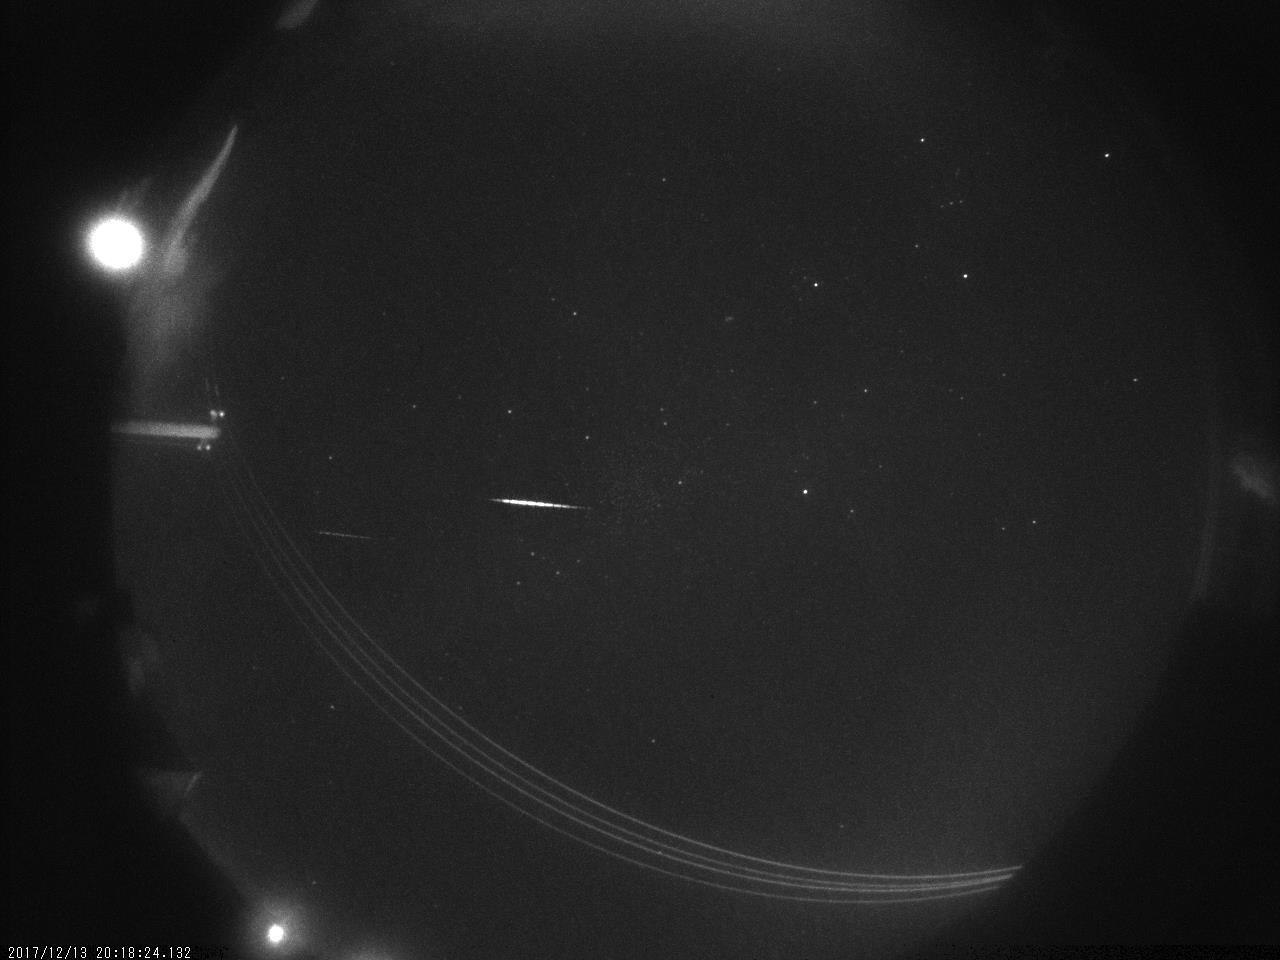Meteor: (305, 521, 382, 548), (487, 494, 589, 512)
